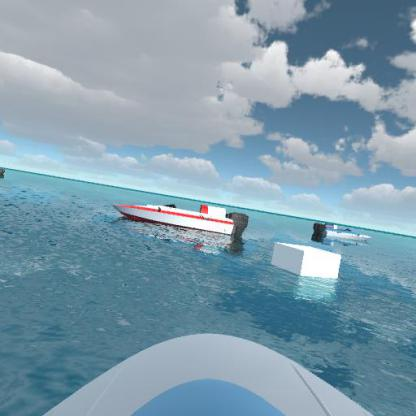usv1: (308, 218, 372, 250)
usv3: (106, 196, 250, 250)
